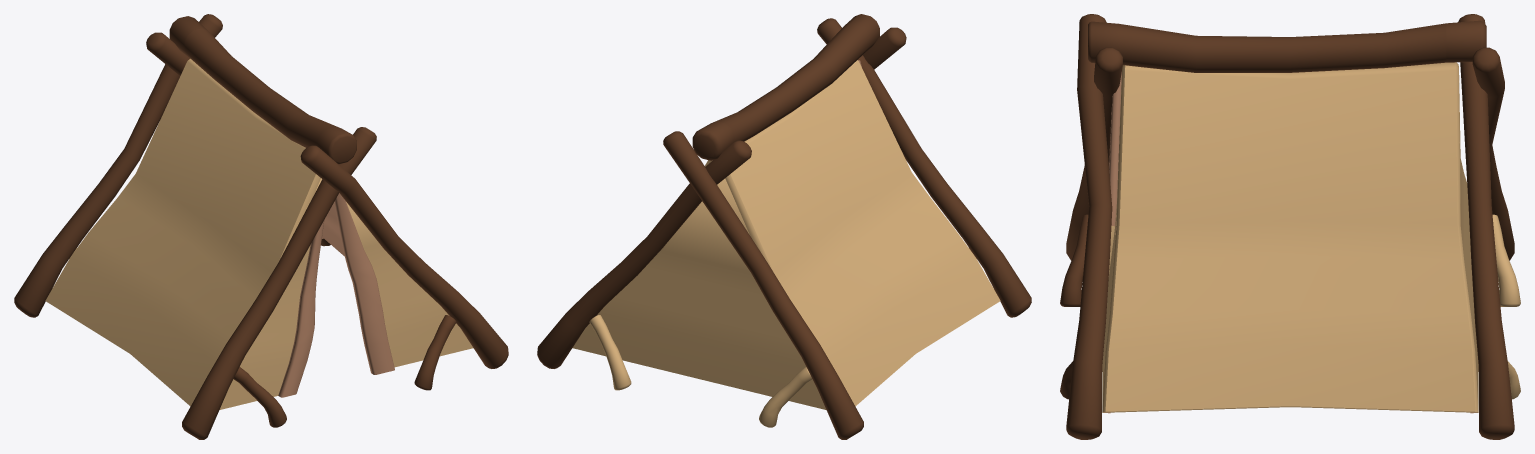
The model's file is Greed_Tent.fbx.
3 views of the same model, side by side, from view 1: azimuth 30°, elevation 25°; view 2: azimuth 150°, elevation 25°; view 3: azimuth 270°, elevation 25° (orthographic). The views are drawn at different scales.
Parts seen in each view (by area): view 1: Tent_1; view 2: Tent_1; view 3: Tent_1.
Boxes of the visible parts, <box> form: Tent_1: <box>14,14,508,439</box>; Tent_1: <box>537,14,1031,439</box>; Tent_1: <box>1060,14,1520,439</box>.
Bounding box in the file's own units: 8.13 × 6.47 × 8.2.
